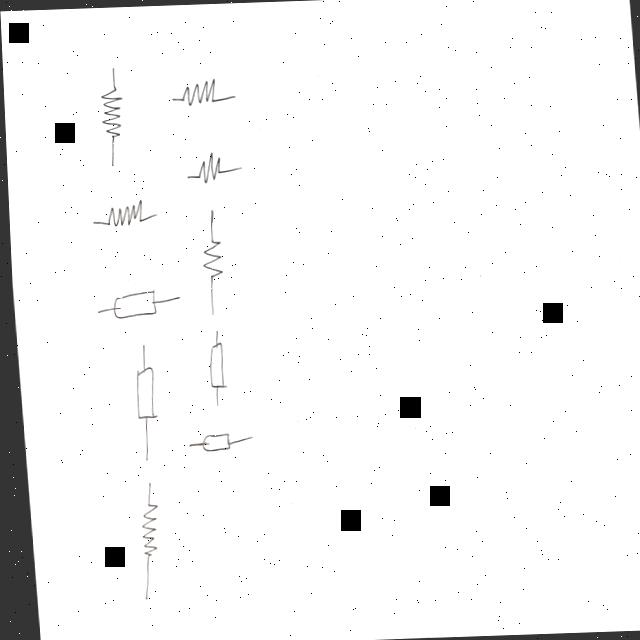resistor: (97, 190, 149, 240), (91, 82, 127, 149), (124, 362, 158, 427), (126, 496, 159, 561), (193, 226, 226, 288), (102, 287, 158, 323), (190, 144, 227, 195), (177, 68, 217, 114), (198, 333, 227, 392), (191, 424, 229, 456)
